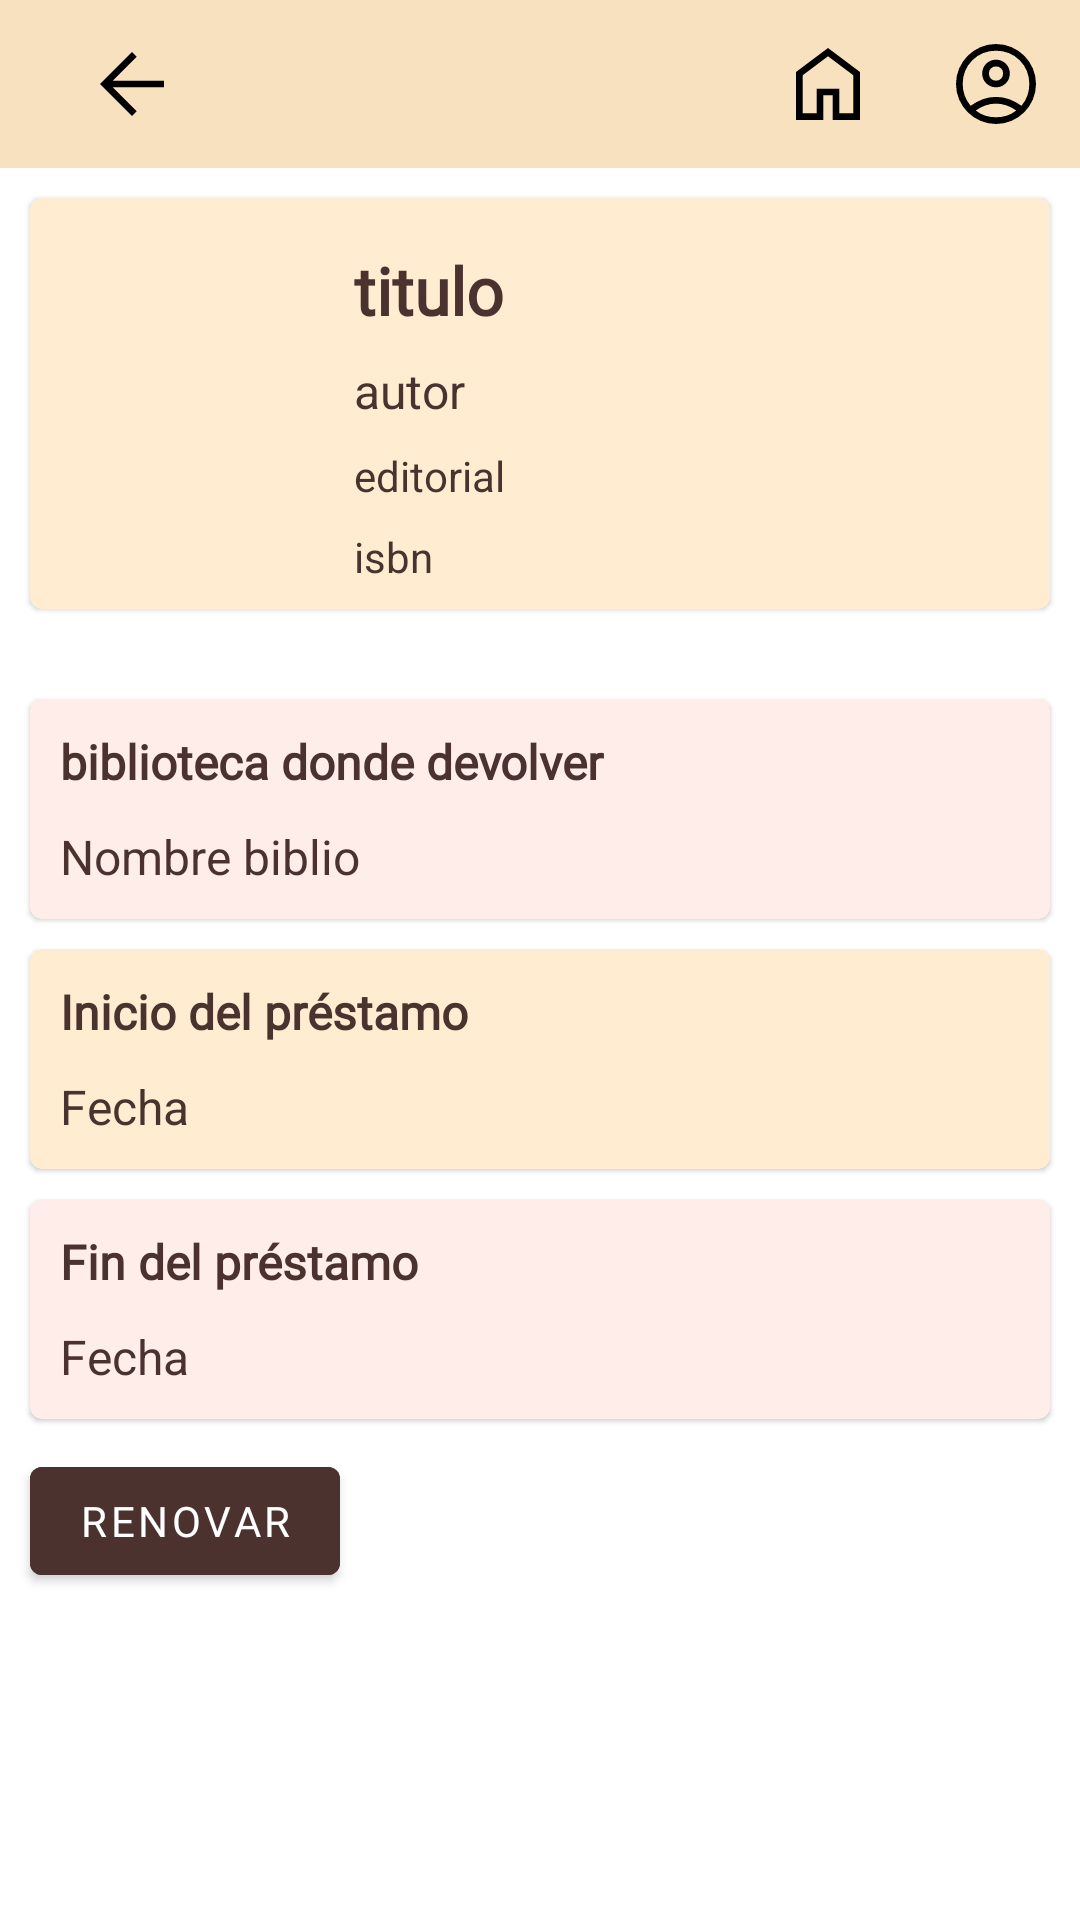

Named icons in this screenshot (1080px x 1920px) and their centers, [x,y]:
back: [132,84]
